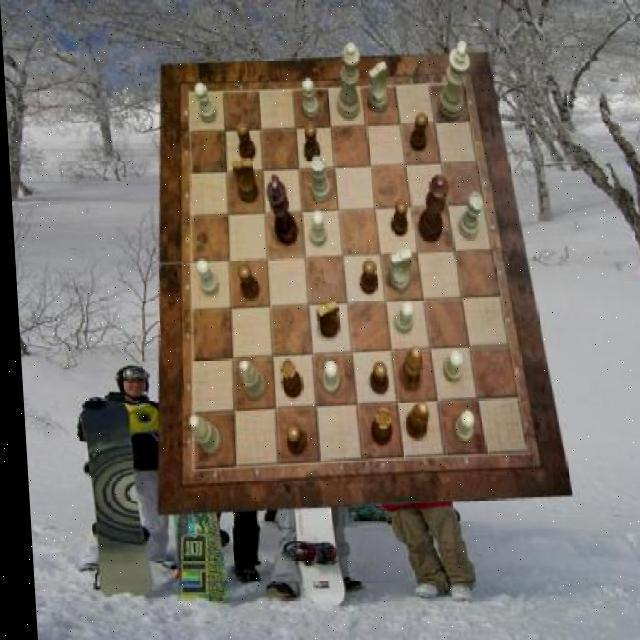bishop: (395, 348, 420, 390), (400, 402, 426, 439)
black-bishop: (264, 176, 296, 247)
black-king: (230, 158, 256, 204), (312, 300, 337, 338)
black-knight: (235, 264, 257, 300), (235, 123, 254, 161), (407, 114, 426, 152), (388, 199, 407, 236), (301, 123, 319, 162), (281, 423, 302, 454), (365, 362, 384, 396), (357, 259, 375, 293)
black-pawn: (413, 174, 449, 241)
black-queen: (275, 358, 298, 398), (365, 408, 388, 445)
black-rook: (184, 416, 218, 456), (236, 360, 262, 400)
white-bishop: (434, 42, 471, 120)
white-king: (366, 61, 388, 112), (386, 249, 411, 292)
white-knight: (195, 83, 217, 122), (194, 260, 216, 296), (448, 411, 471, 443), (391, 301, 413, 334), (301, 78, 319, 118), (439, 351, 461, 383), (307, 210, 325, 246), (316, 360, 335, 394)
white-pawn: (333, 42, 363, 119)
white-queen: (455, 192, 483, 238), (307, 156, 328, 202)
